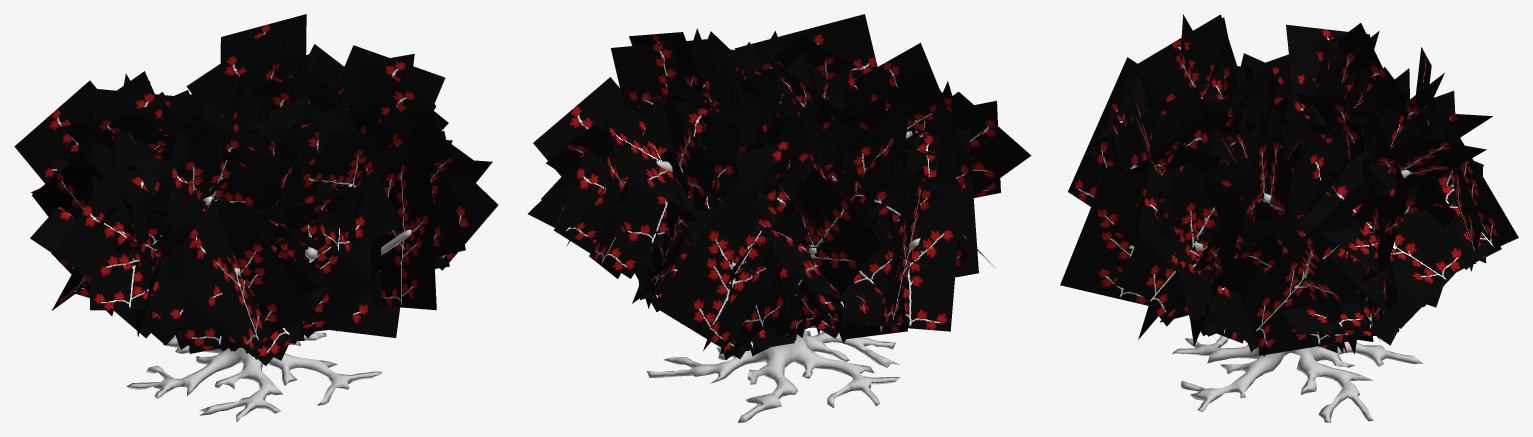
File: wfxb.fbx
The picture shows the model from 3 angles, left to right: view 1: azimuth 30°, elevation 25°; view 2: azimuth 150°, elevation 25°; view 3: azimuth 270°, elevation 25°; orthographic projection. The views are drawn at different scales.
Visible parts, largest first — view 1: Tree Branch (2).011; view 2: Tree Branch (2).011; view 3: Tree Branch (2).011.
Boxes of the visible parts, x1,y1,x2,y2 form: Tree Branch (2).011: [14, 14, 498, 422]; Tree Branch (2).011: [528, 14, 1031, 422]; Tree Branch (2).011: [1060, 14, 1518, 422].
Size of the model in its own units: 879 by 947 by 673.
